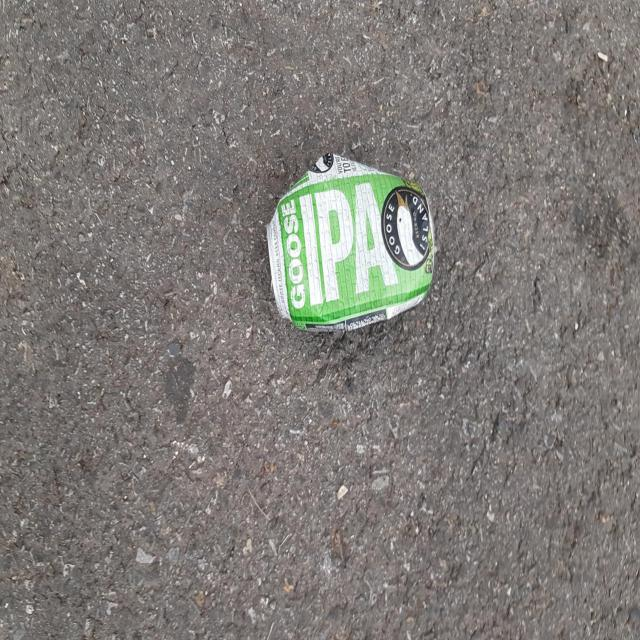can: (266, 152, 436, 331)
